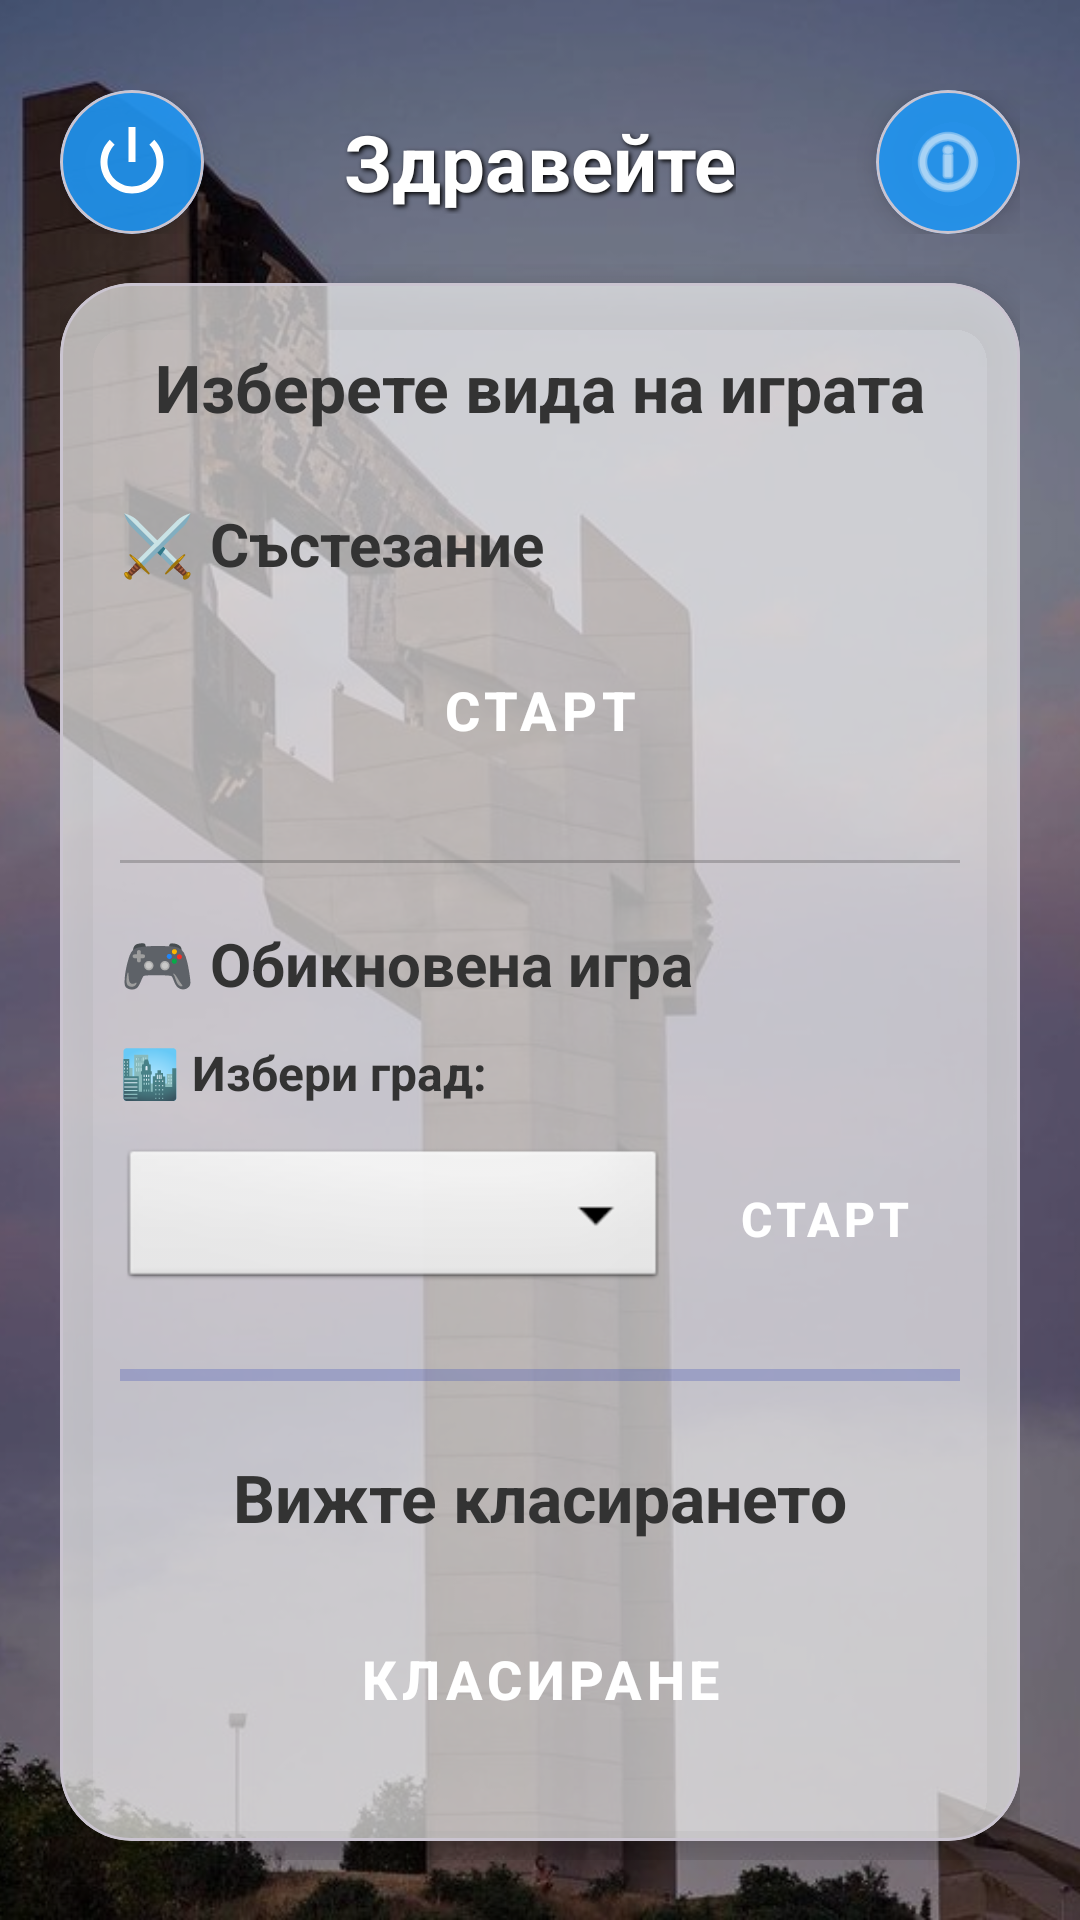

Named icons in this screenshot (1080 x 1920) and their centers, (x,y):
info details: (948,162)
lock power off: (132,160)
